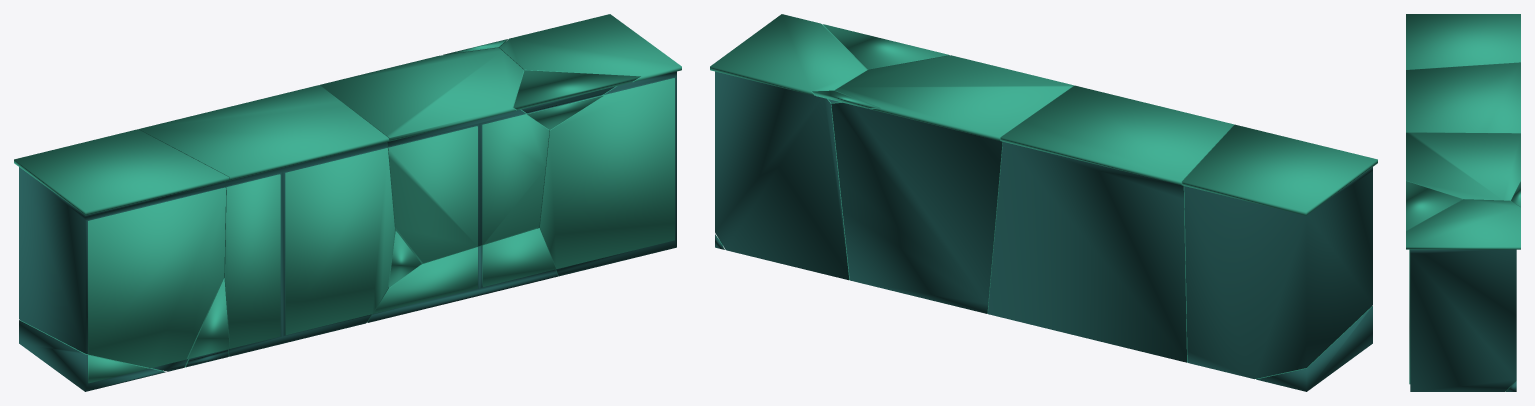
The model's file is Altillo_Roto.fbx.
The picture shows the model from 3 angles, left to right: view 1: azimuth 30°, elevation 25°; view 2: azimuth 150°, elevation 25°; view 3: azimuth 270°, elevation 25°; orthographic projection. The views are drawn at different scales.
Visible parts, largest first — view 1: Altillo_cell.010, Altillo_cell.002, Altillo_cell.001, Altillo_cell, Altillo_cell.003, Altillo_cell.007, Altillo_cell.008, Altillo_cell.009, Altillo_cell.006; view 2: Altillo_cell.010, Altillo_cell.002, Altillo_cell.001, Altillo_cell, Altillo_cell.008, Altillo_cell.007; view 3: Altillo_cell, Altillo_cell.010, Altillo_cell.001, Altillo_cell.002, Altillo_cell.007, Altillo_cell.011.
Boxes of the visible parts, left/top/right/bottom form: Altillo_cell.010: left=138, top=85, right=394, bottom=356; Altillo_cell.002: left=14, top=129, right=228, bottom=371; Altillo_cell.001: left=320, top=47, right=549, bottom=264; Altillo_cell: left=499, top=14, right=681, bottom=276; Altillo_cell.003: left=367, top=228, right=557, bottom=322; Altillo_cell.007: left=513, top=70, right=640, bottom=129; Altillo_cell.008: left=19, top=320, right=165, bottom=391; Altillo_cell.009: left=186, top=278, right=229, bottom=367; Altillo_cell.006: left=389, top=231, right=421, bottom=287; Altillo_cell.010: left=988, top=85, right=1234, bottom=362; Altillo_cell.002: left=1182, top=124, right=1377, bottom=379; Altillo_cell.001: left=831, top=55, right=1074, bottom=313; Altillo_cell: left=710, top=14, right=867, bottom=280; Altillo_cell.008: left=1256, top=306, right=1372, bottom=391; Altillo_cell.007: left=823, top=24, right=949, bottom=69; Altillo_cell: left=1406, top=199, right=1520, bottom=391; Altillo_cell.010: left=1406, top=62, right=1520, bottom=133; Altillo_cell.001: left=1406, top=132, right=1520, bottom=200; Altillo_cell.002: left=1406, top=14, right=1520, bottom=69; Altillo_cell.007: left=1406, top=181, right=1462, bottom=230; Altillo_cell.011: left=1511, top=181, right=1520, bottom=207.
Bounding box in the file's own units: 204 × 59.62 × 42.45.
